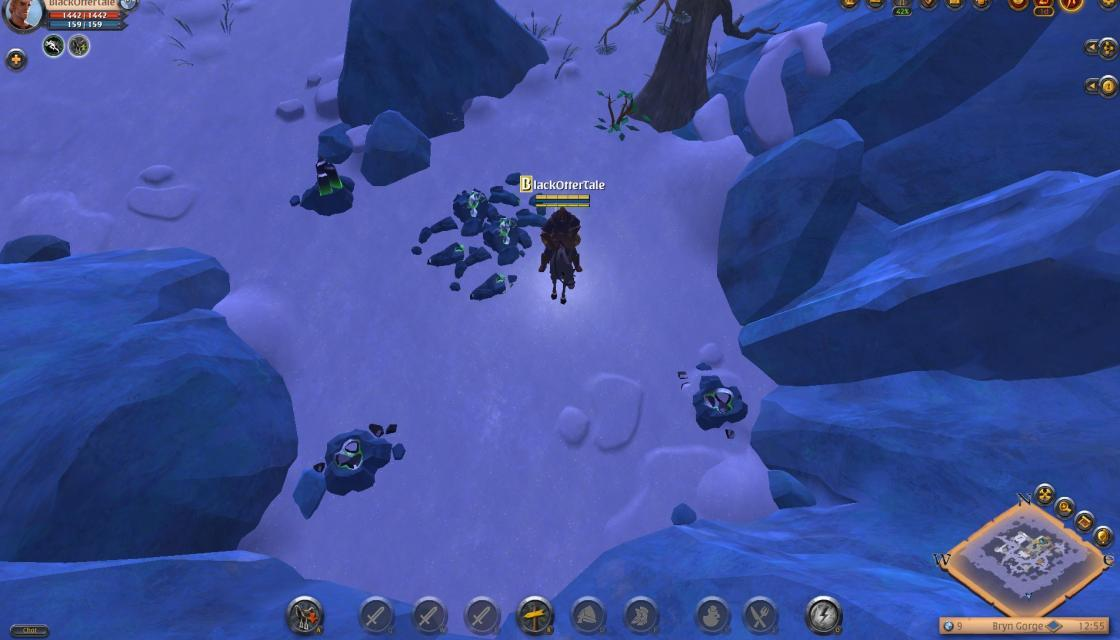tinore: (300, 154, 364, 214)
